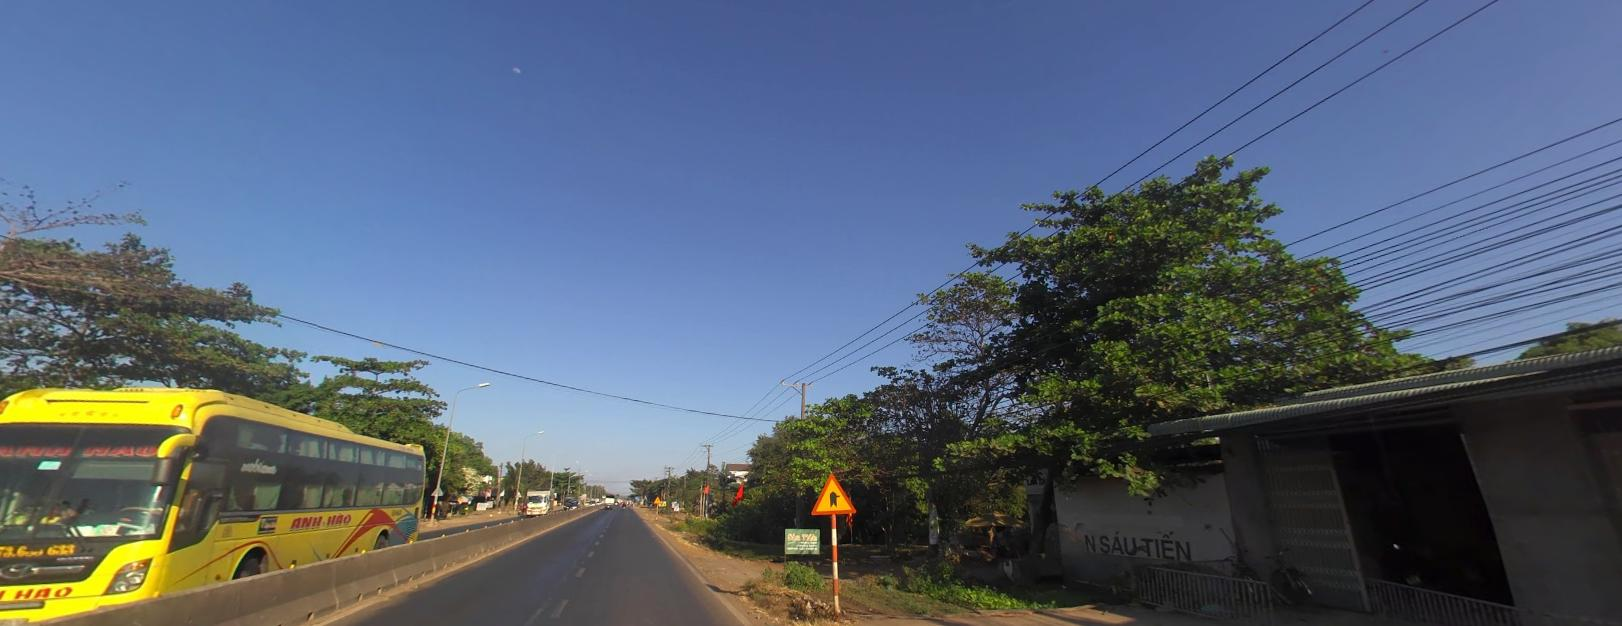Nguy hiem: (808, 470, 857, 518), (652, 494, 661, 504)
